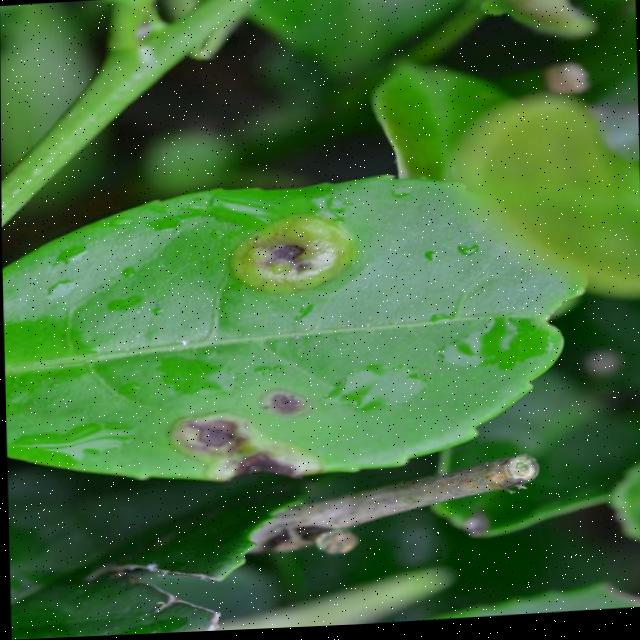Tea cake: (173, 426, 319, 511), (236, 212, 369, 300)
